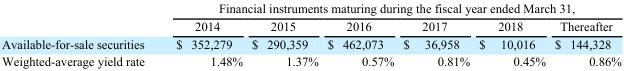table: (0, 1, 620, 68)
table column: (0, 1, 159, 68), (159, 1, 246, 68), (246, 1, 322, 68), (322, 1, 398, 68), (473, 1, 549, 68), (398, 1, 473, 68), (549, 1, 620, 68)
table column header: (0, 1, 620, 34)
table row: (0, 16, 620, 34), (0, 34, 620, 52), (0, 52, 620, 68), (0, 1, 620, 16)
table spanning cell: (159, 1, 620, 16)
